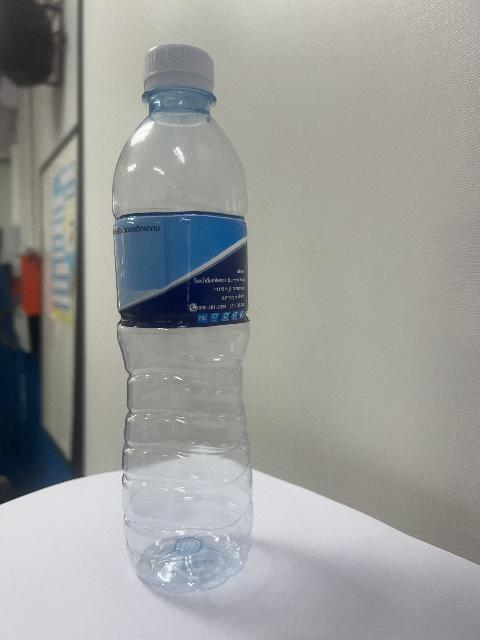bottle: (113, 45, 252, 591)
